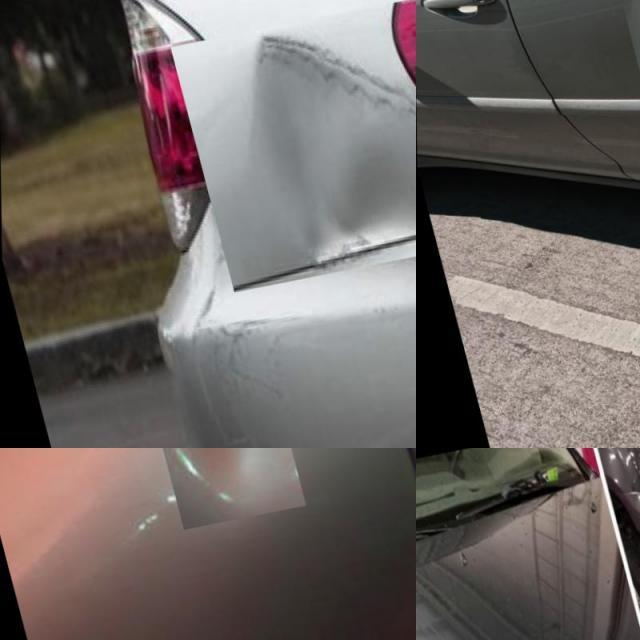car damage: (245, 36, 420, 268), (180, 435, 298, 514)
